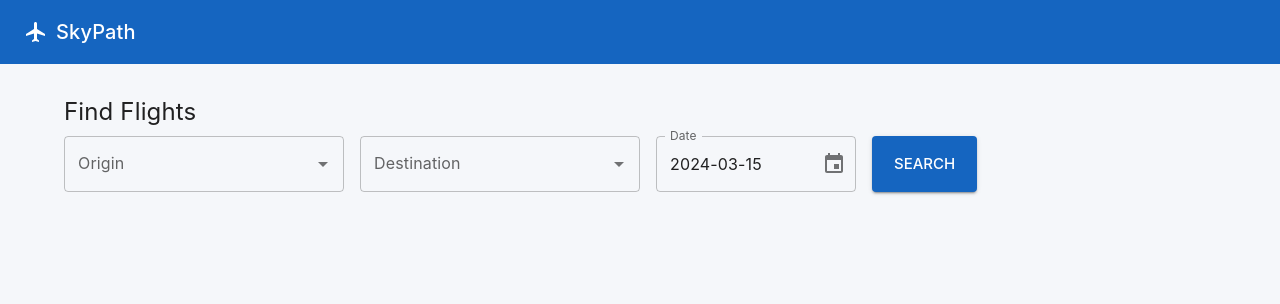
App › error alert can be dismissed
Type "JFK" into the dropdown labelled "Origin". click: (189, 164)
box: [73, 145, 305, 183]
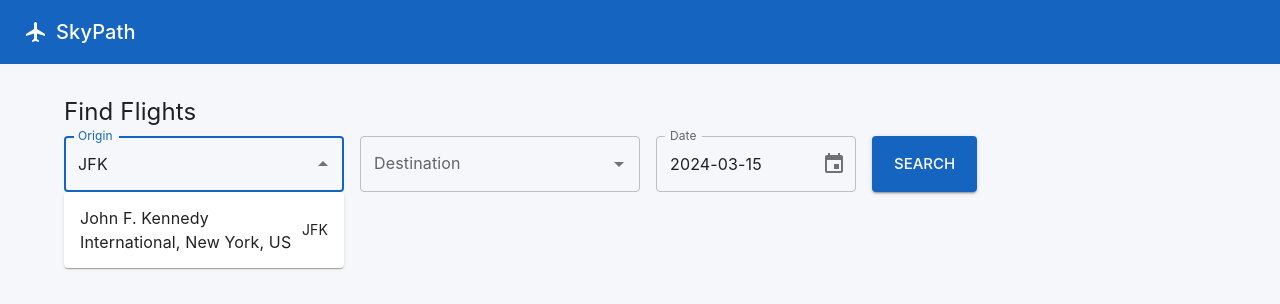
Expected: the text "John F. Kennedy International, New York, US" is shown
Click the text "John F. Kennedy International, New York, US". click: (187, 230)
box: [80, 206, 294, 254]
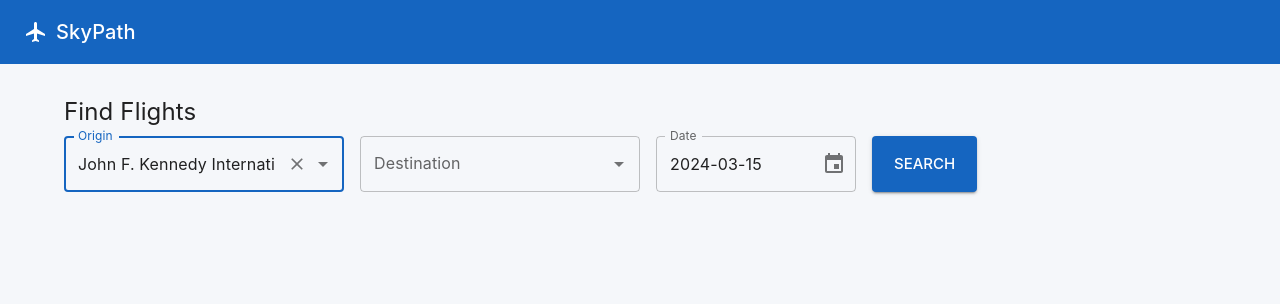
Type "LAX" into the dropdown labelled "Destination". click: (485, 164)
box: [369, 145, 601, 183]
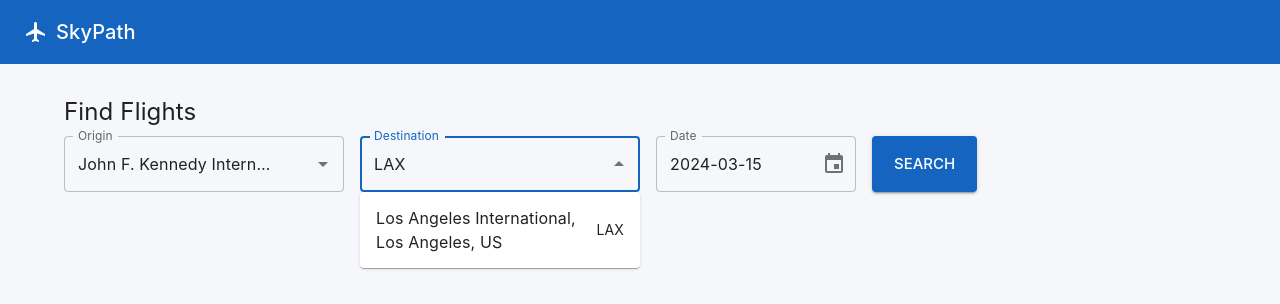
Expected: the text "Los Angeles International, Los Angeles, US" is shown
Click the text "Los Angeles International, Los Angeles, US". click: (482, 230)
box: [376, 206, 588, 254]
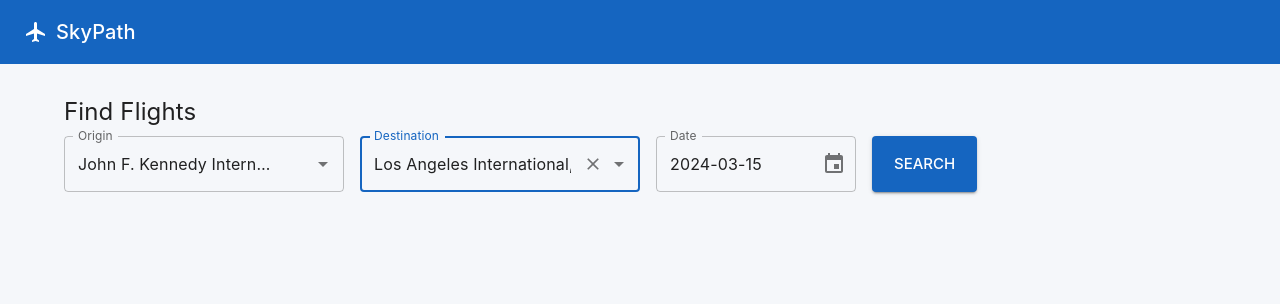
Click the button "Search". click: (925, 164)
box: [872, 136, 977, 192]
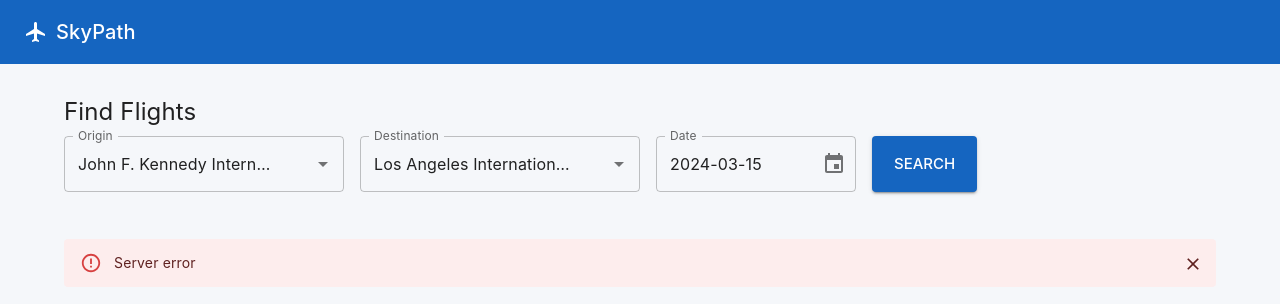
Expected: the message "Server error" is shown, [64, 239, 1216, 287]
Click the button named "close". click: (1193, 264)
box: [1178, 249, 1208, 279]
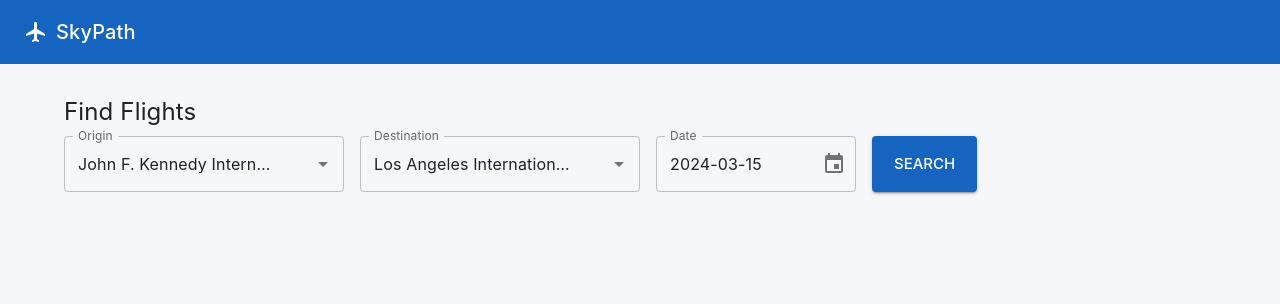
Expected: the message "Server error" is gone
